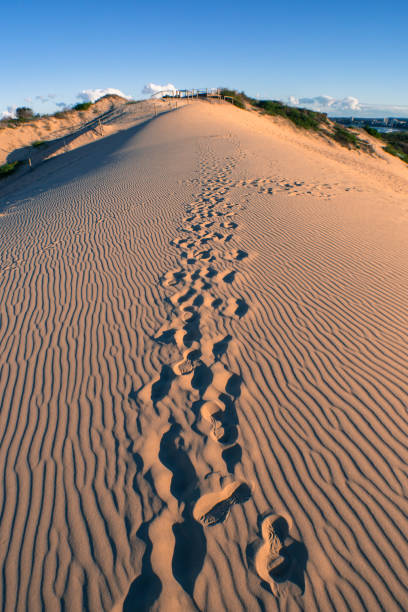human_footprint: (140, 166, 250, 564), (254, 514, 306, 594), (193, 481, 250, 526), (255, 514, 289, 585), (200, 395, 237, 445)
